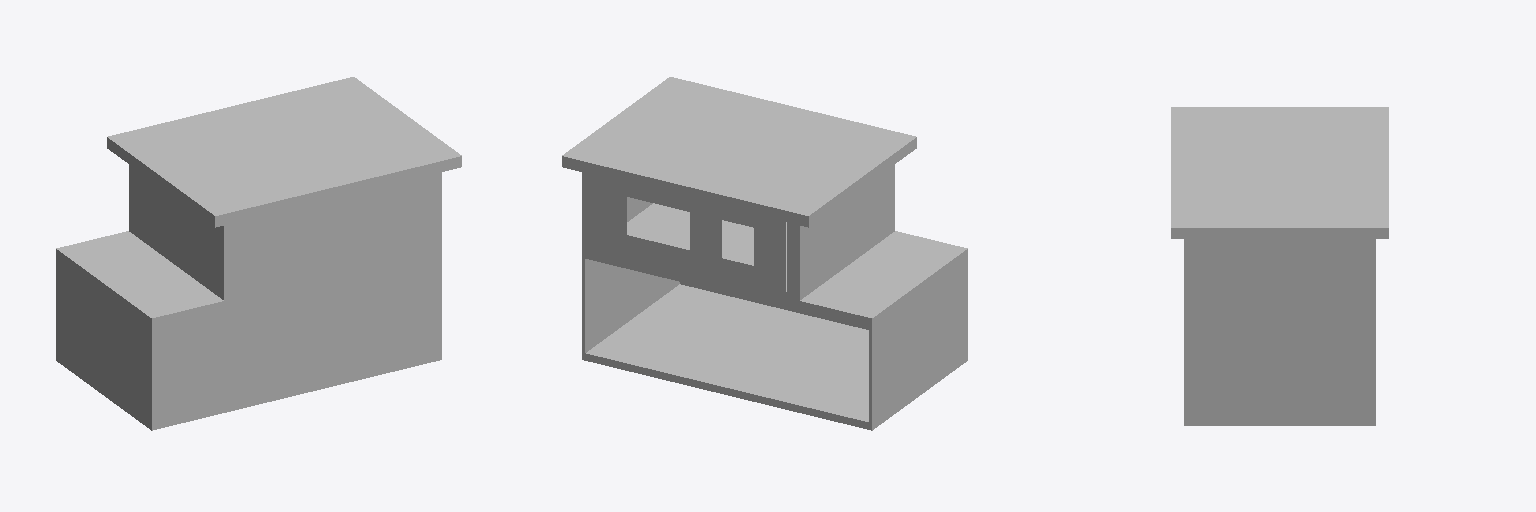
Rendered from building.obj.
3 renders of one model, left to right at view 1: azimuth 30°, elevation 25°; view 2: azimuth 150°, elevation 25°; view 3: azimuth 270°, elevation 25°, orthographic.
Visible parts, largest first — view 1: Cube, Cube.001; view 2: Cube, Cube.001; view 3: Cube, Cube.001.
Part boxes in pixels (x1,y1,x2,y2): Cube: (56,165,441,430); Cube.001: (107,77,461,227); Cube: (582,165,967,430); Cube.001: (562,77,916,227); Cube: (1184,239,1375,425); Cube.001: (1171,107,1388,238).
Bounding box in the file's own units: 3.67 × 2.37 × 2.27.